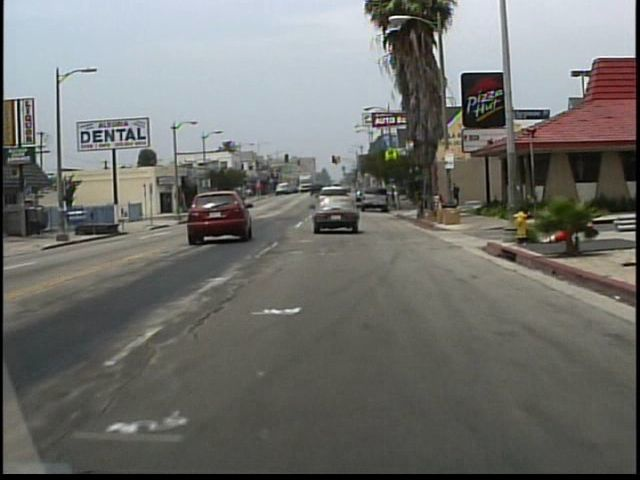person: (453, 183, 462, 209), (449, 185, 454, 209)
